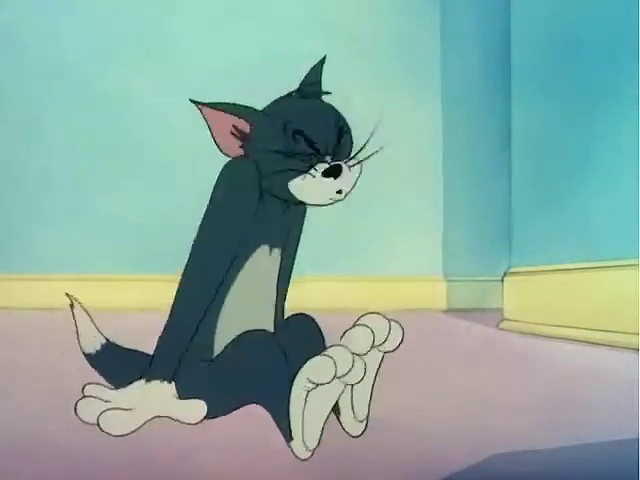tom: (63, 31, 424, 465)
